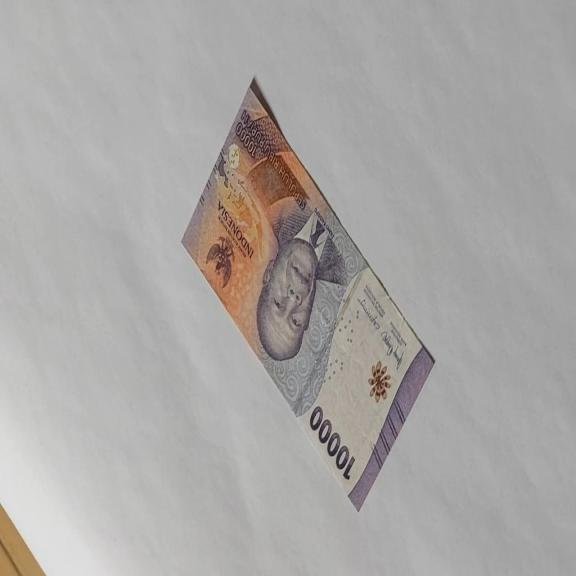Kertas: (180, 75, 435, 512), (309, 404, 356, 482)
